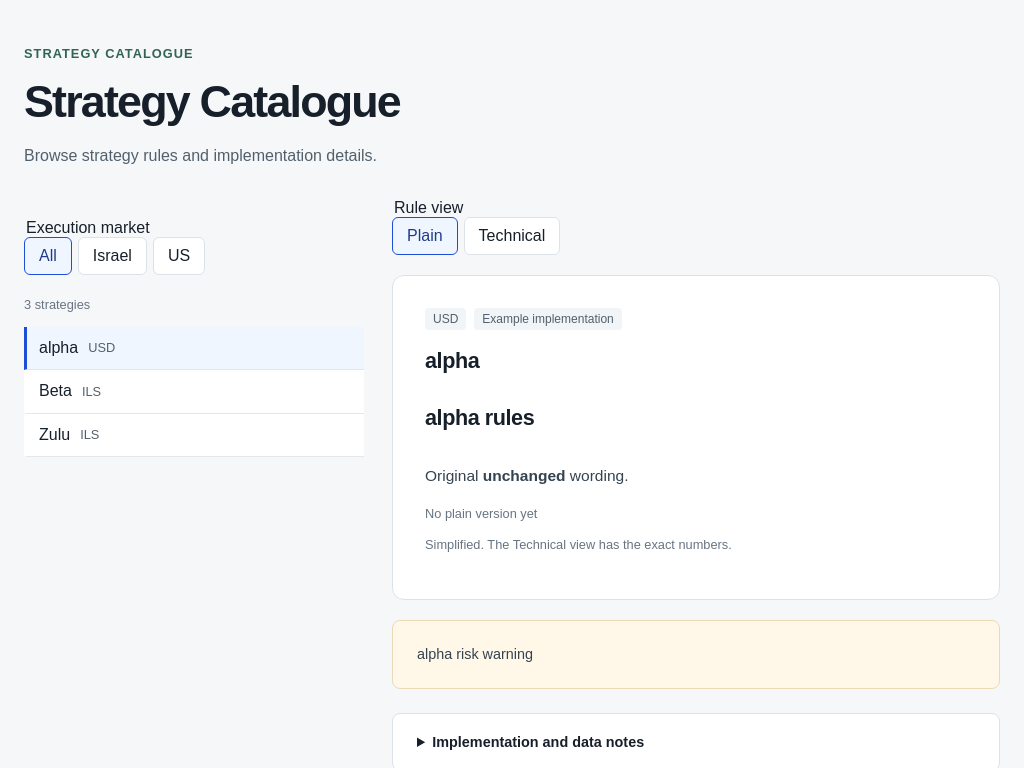
Test case: sorts generic models alphabetically, selects the first and shows currency and unchanged rules
Expected: the heading "Strategy Catalogue" is shown, [24, 76, 400, 126]
Expected: the text "Strategy Catalogue" is shown, [24, 46, 194, 61]
What coordinates should you click on to do the following:
click the button "Zulu ILS"
I would click on:
 (55, 434)
Its box is [24, 414, 364, 457].
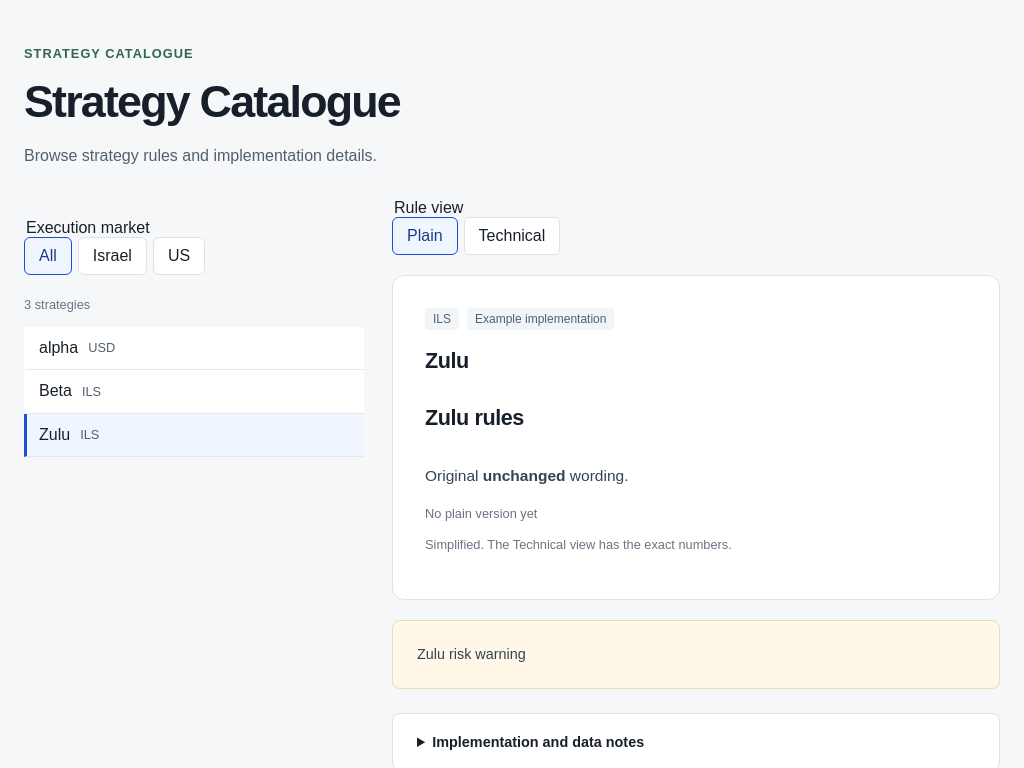
Expected: the text "unchanged" is shown, [483, 467, 566, 484]
Expected: the heading "Zulu rules" is shown, [425, 405, 524, 430]
Expected: the text "Zulu risk warning" is shown, [417, 646, 526, 662]
